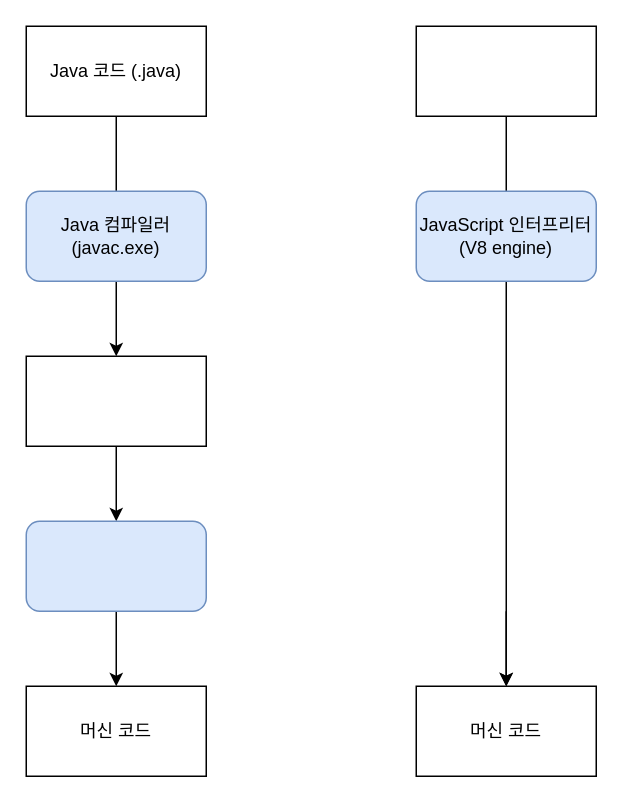
This 623x803 diagram has some shape labels left out. The centre of each missing label's shape, as x and y in pixels:
Java 인터프리터 (java.exe): the point at 115,565
JavaScript 코드 (.js): the point at 505,70
클래스 파일 (.class): the point at 115,400
